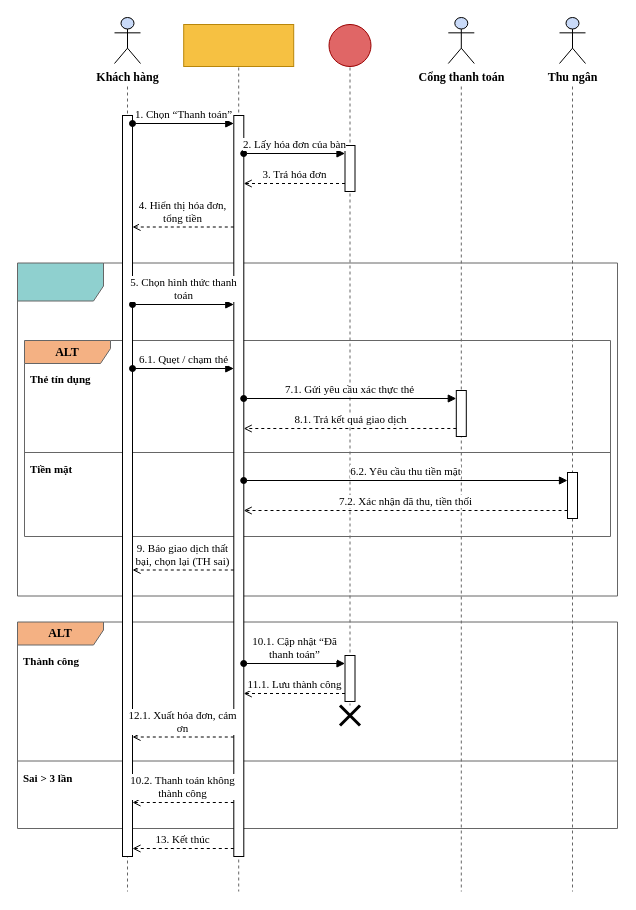
Image size: 636x910. Some labels were removed from this diagram. Each missing label, with the centre of its shape:
CSDL: pixel 349 45
HỆ THỐNG: pixel 238 45
Loop 3 lần: pixel 317 429
